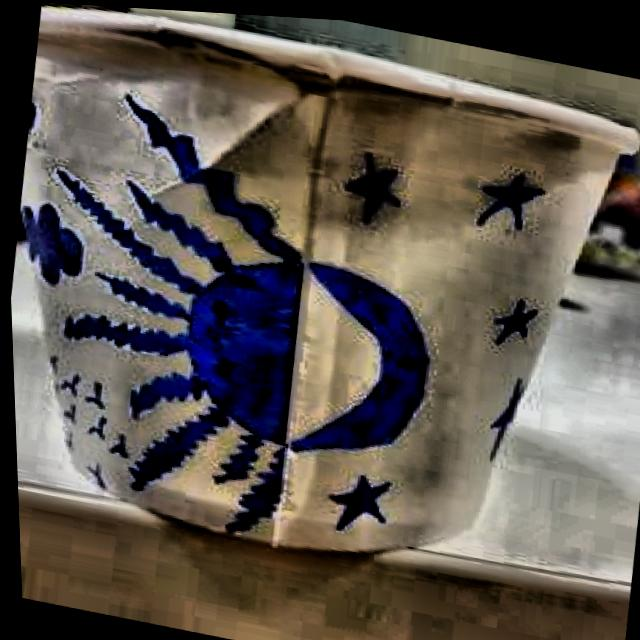Cup: (0, 0, 640, 629)
